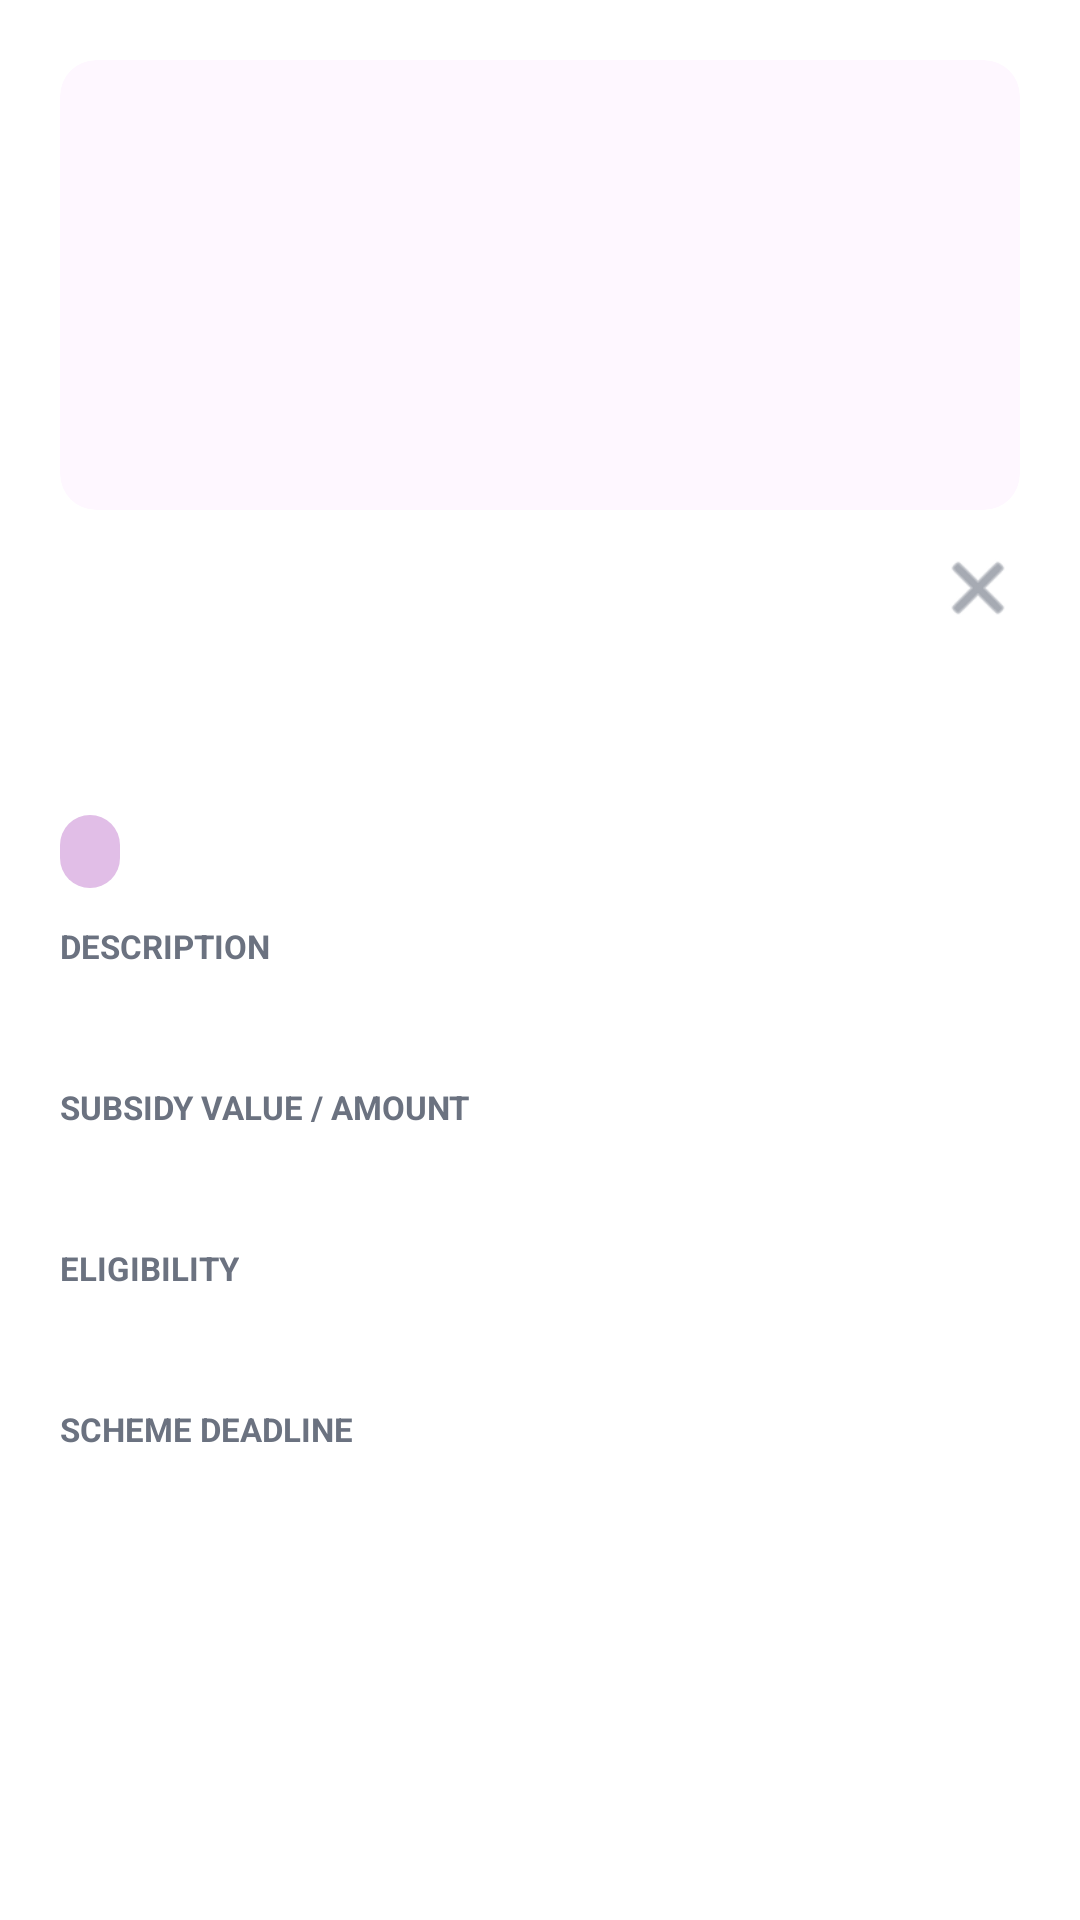

Point at icon controls on the screen. Image size 1080 x 1920, points as (x=x, y=y).
close clear cancel: (x=978, y=588)
